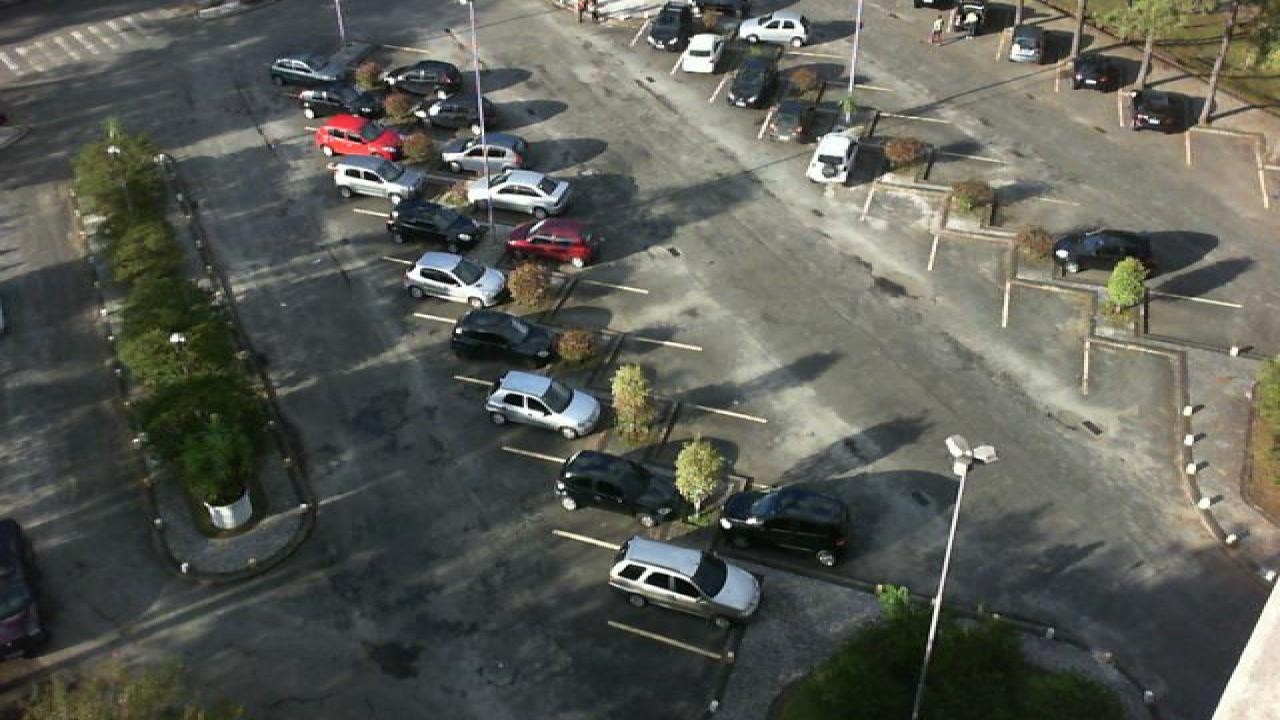Car: (608, 536, 764, 628), (720, 484, 852, 566), (556, 448, 688, 528), (482, 370, 604, 440), (450, 306, 562, 367), (402, 251, 508, 308), (386, 196, 490, 252), (466, 167, 572, 220), (1050, 227, 1158, 279), (504, 216, 596, 270), (312, 114, 406, 158), (326, 160, 424, 200), (268, 48, 356, 88), (438, 133, 522, 173), (804, 130, 864, 184), (402, 91, 486, 128), (296, 84, 378, 121), (376, 58, 460, 94), (1128, 87, 1192, 132), (726, 56, 780, 109), (736, 10, 810, 47), (642, 2, 696, 51), (766, 98, 822, 143), (1070, 52, 1130, 92), (674, 33, 730, 73), (1008, 29, 1048, 64), (948, 1, 988, 36)
